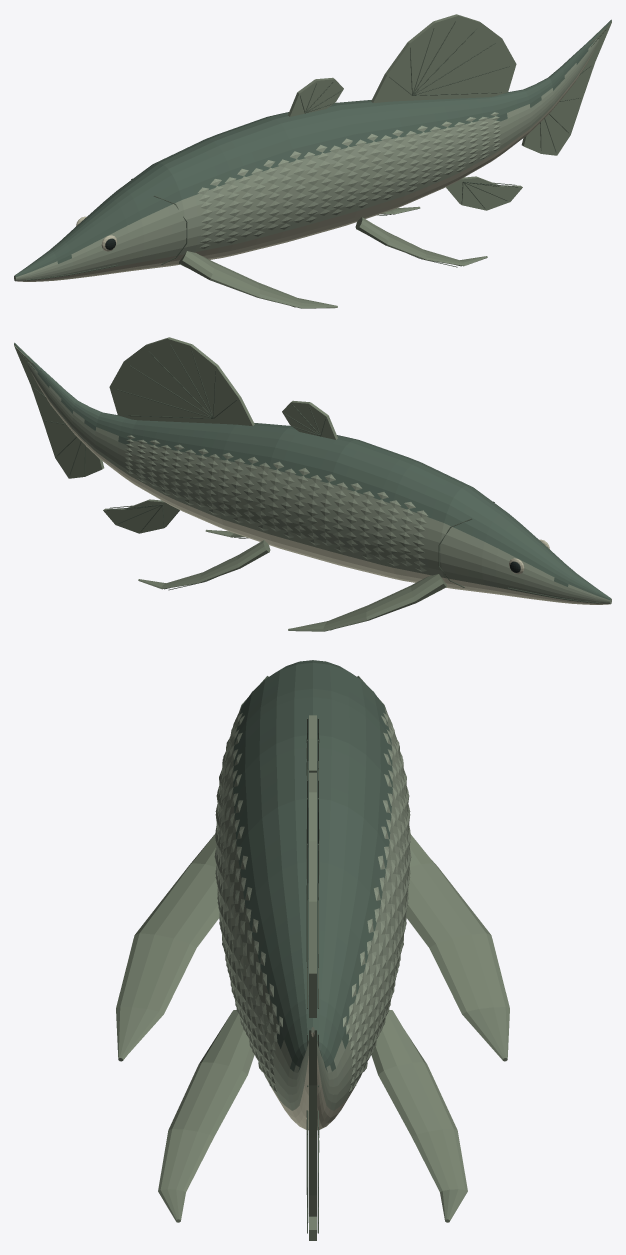
3 views of the same model, one above another, from view 1: azimuth 30°, elevation 25°; view 2: azimuth 150°, elevation 25°; view 3: azimuth 270°, elevation 25° (orthographic). The views are drawn at different scales.
Visible parts, largest first — view 1: Body_head_and_ascending_caudal_axis, Separated_median_and_paired_fins, Modest_original_flank_scale_cues, External_fin_rays_and_closed_face_seams; view 2: Body_head_and_ascending_caudal_axis, Separated_median_and_paired_fins, Modest_original_flank_scale_cues, External_fin_rays_and_closed_face_seams; view 3: Body_head_and_ascending_caudal_axis, Separated_median_and_paired_fins, Modest_original_flank_scale_cues, External_fin_rays_and_closed_face_seams.
Boxes of the visible parts, x1,y1,x2,y2 form: Body_head_and_ascending_caudal_axis: [14, 19, 611, 281]; Separated_median_and_paired_fins: [179, 14, 611, 308]; Modest_original_flank_scale_cues: [197, 112, 500, 248]; External_fin_rays_and_closed_face_seams: [25, 21, 607, 307]; Body_head_and_ascending_caudal_axis: [14, 342, 611, 604]; Separated_median_and_paired_fins: [14, 337, 446, 631]; Modest_original_flank_scale_cues: [125, 435, 428, 571]; External_fin_rays_and_closed_face_seams: [18, 344, 600, 630]; Body_head_and_ascending_caudal_axis: [217, 660, 408, 1130]; Separated_median_and_paired_fins: [116, 715, 509, 1240]; Modest_original_flank_scale_cues: [214, 713, 411, 1092]; External_fin_rays_and_closed_face_seams: [226, 676, 399, 1233].
Size of the model in its own units: 0.215 by 0.0751 by 0.0615.
